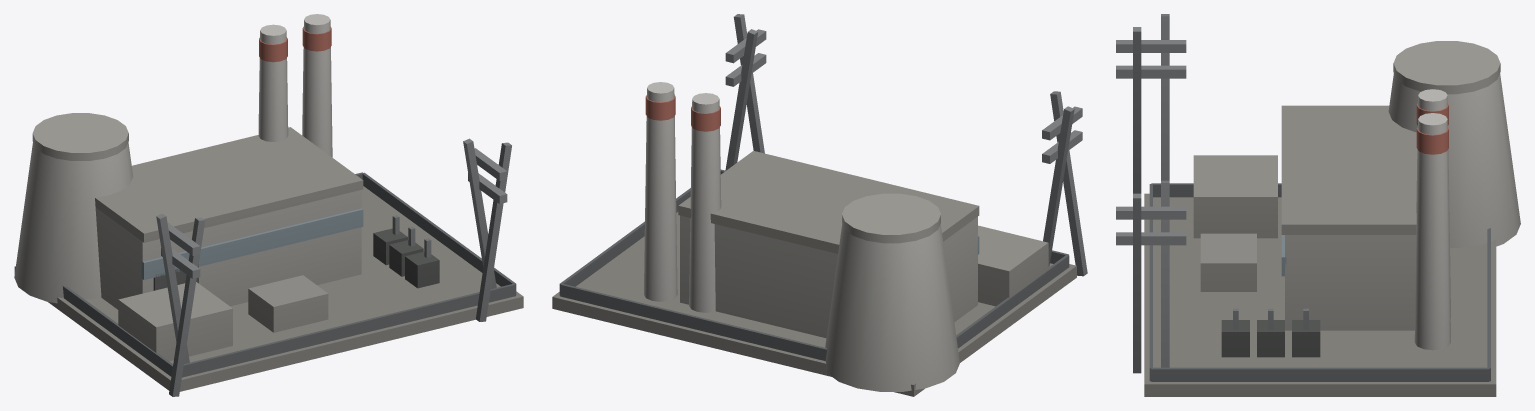
File: m_techb_plant_c000a408.glb
The picture shows the model from 3 angles, left to right: view 1: azimuth 30°, elevation 25°; view 2: azimuth 150°, elevation 25°; view 3: azimuth 270°, elevation 25°; orthographic projection. The views are drawn at different scales.
Parts seen in each view (by area): view 1: mesh; view 2: mesh; view 3: mesh.
Boxes of the visible parts, x1,y1,x2,y2 form: mesh: [14, 14, 523, 396]; mesh: [552, 14, 1087, 396]; mesh: [1116, 14, 1520, 396].
Bounding box in the file's own units: 66.34 × 37 × 57.5.
